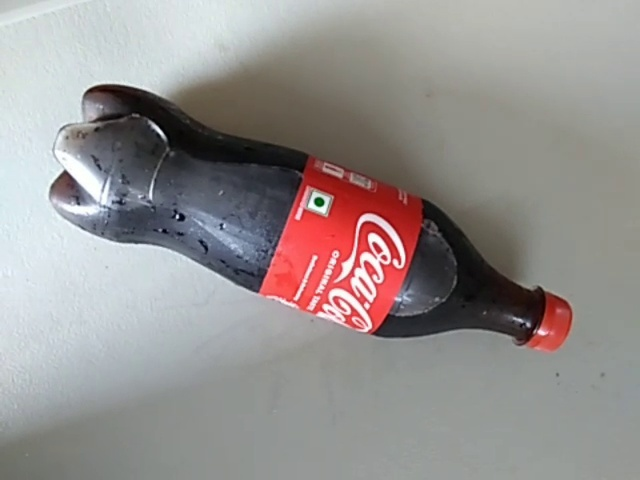Cocacola: (43, 73, 582, 362)
